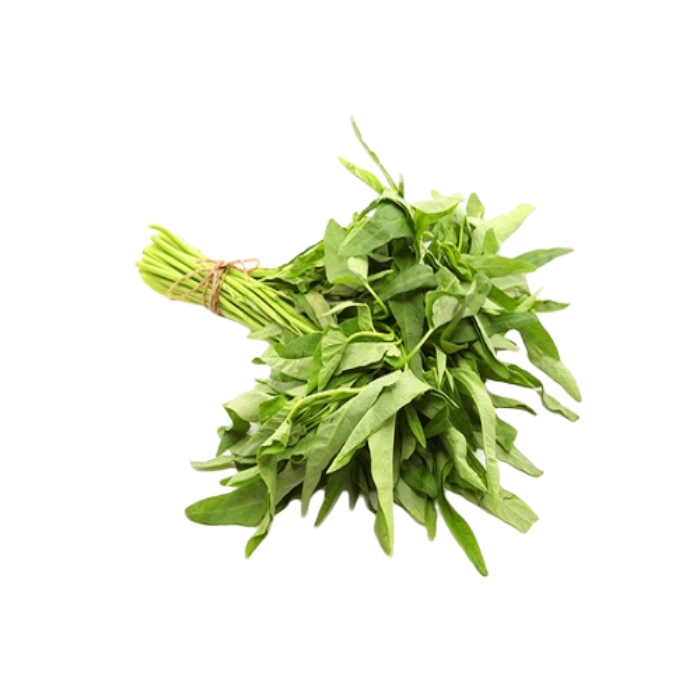Kangkung: (74, 111, 597, 585)
